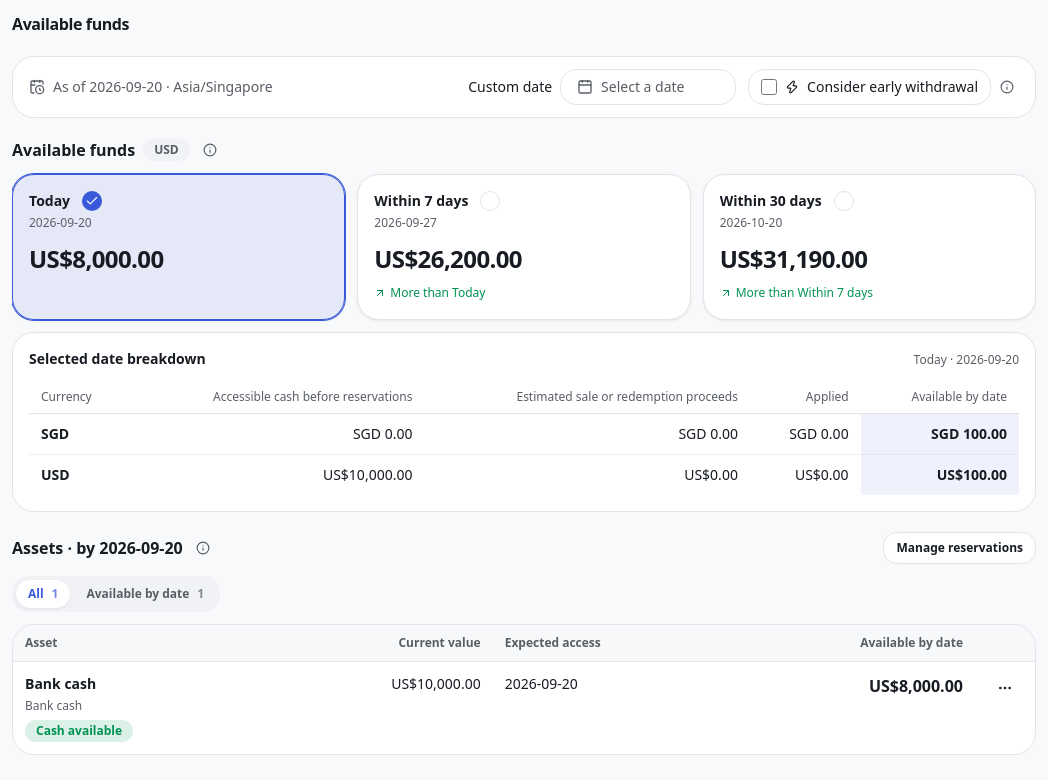
Test: AvailableFundsPage › shows base totals and native details while preserving missing currencies as unknown
Check: the element with test id "funds-comparison" is shown, box [12,174,1036,320]
Check: the column heading "SGD" is shown, box [29,414,128,454]
Click the button with test id "horizon-2026-09-27": (524,247) [357,174,691,320]
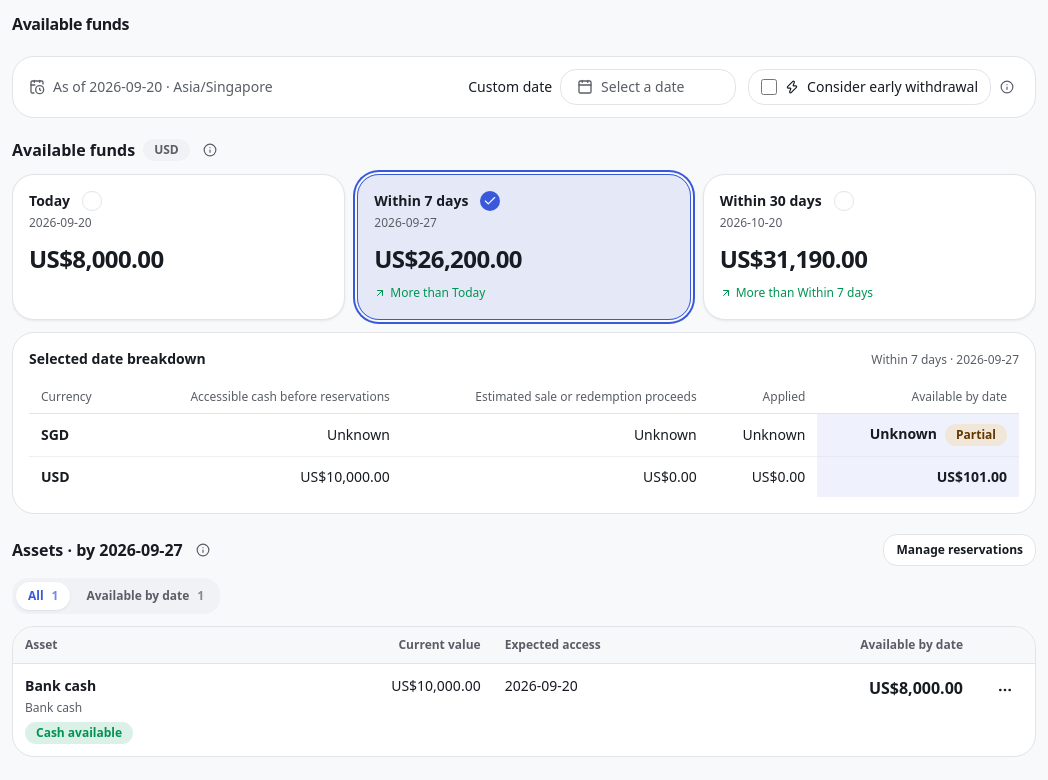
Check: the row "SGD" does not show "0.00", box [29,414,1019,457]
Check: the row "SGD" shows "Unknown", box [327,425,390,444]
